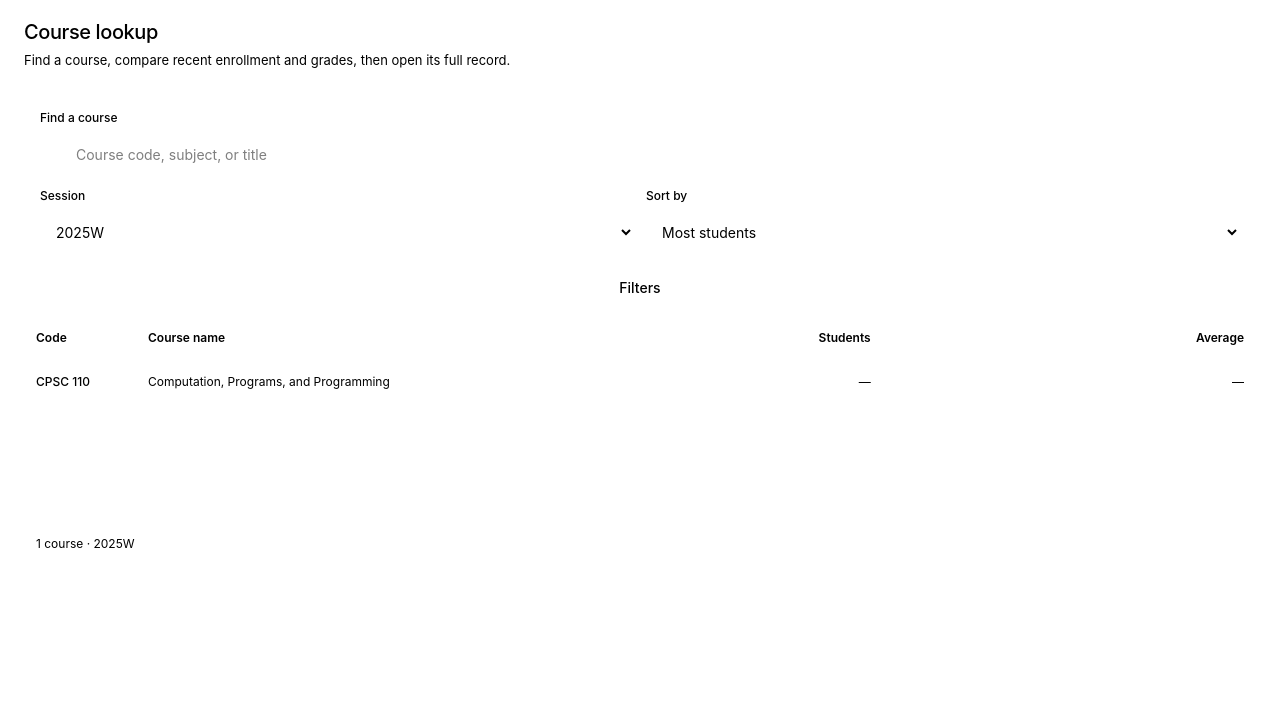
course-lookup-pane — tools-mode list/detail split › reserves a result viewport when advanced filters expand
Expected: the table is shown, [24,322,1256,410]
Step 1. Click the button "Filters" → (640, 288), box [40,266,1240,310]
(page scrolled)
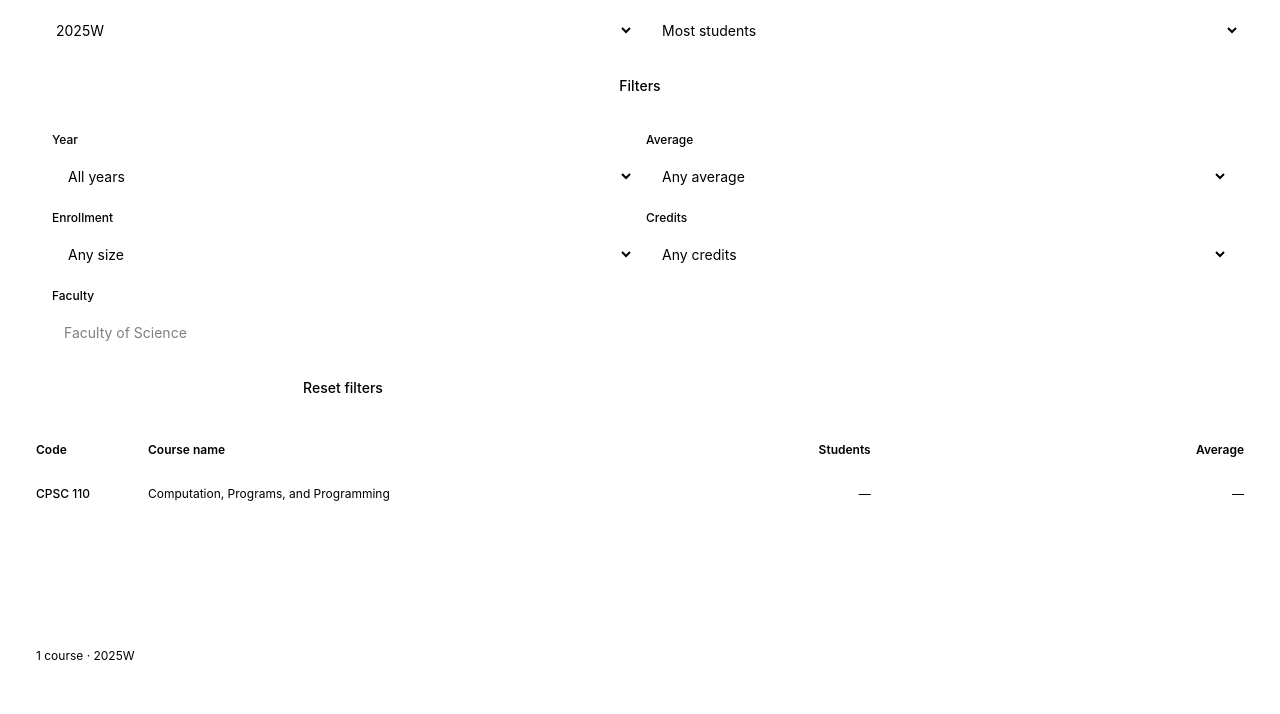
Expected: the footer is shown, [36,648,135,663]
Expected: the element named "Advanced course filters" is shown, [40,120,1240,422]
